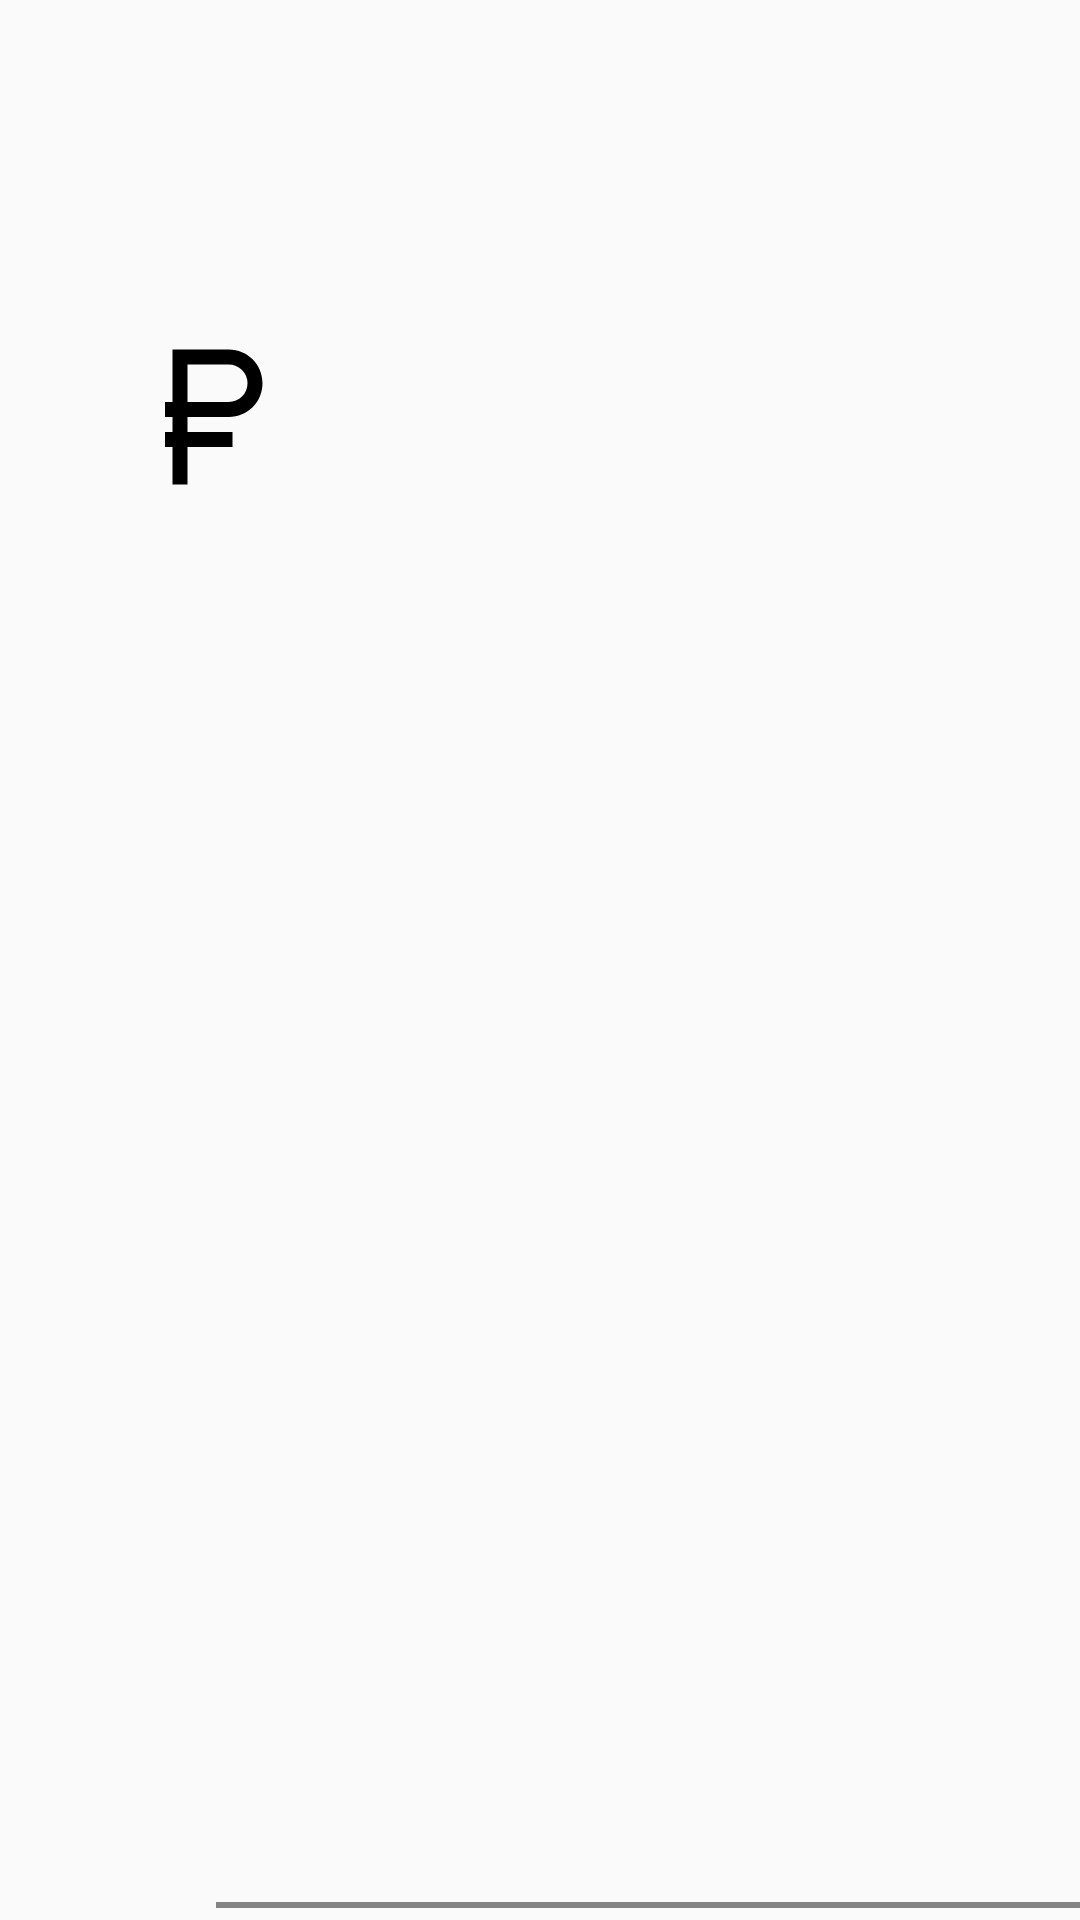

Icons on this 1080x1920 Android screen, each with its box as BBox(x1, y1, x2, y2):
currency rub: BBox(165, 349, 263, 485)
